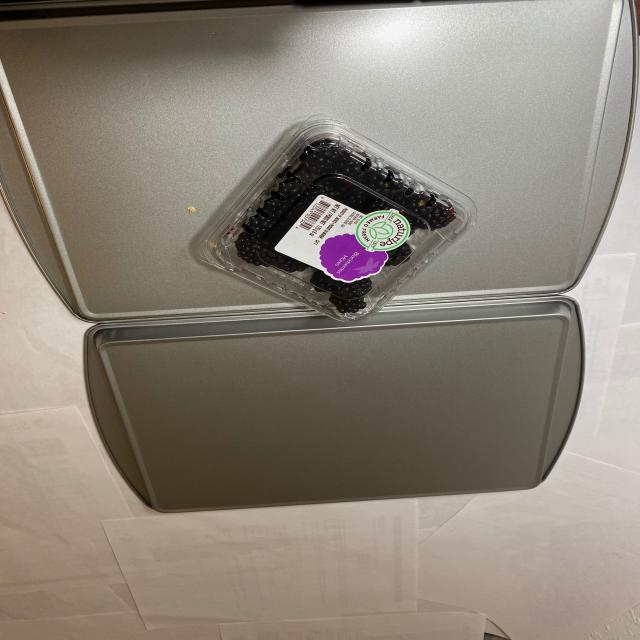blackberries: (215, 138, 452, 328)
